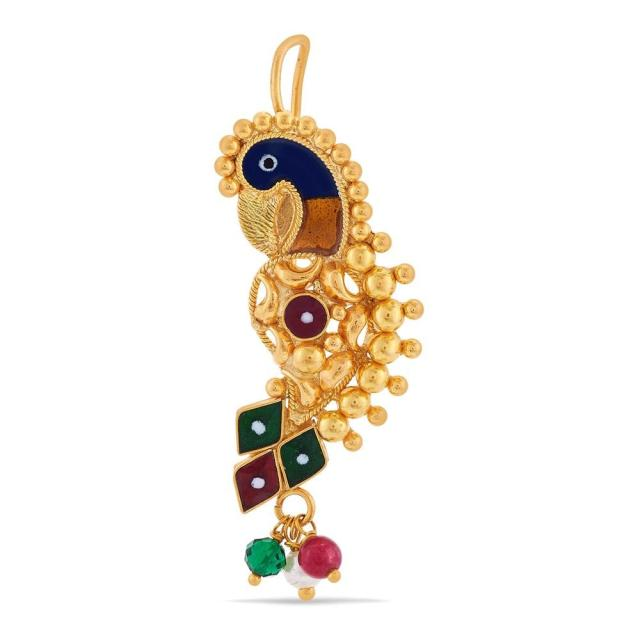missing gem: (242, 189, 279, 250)
